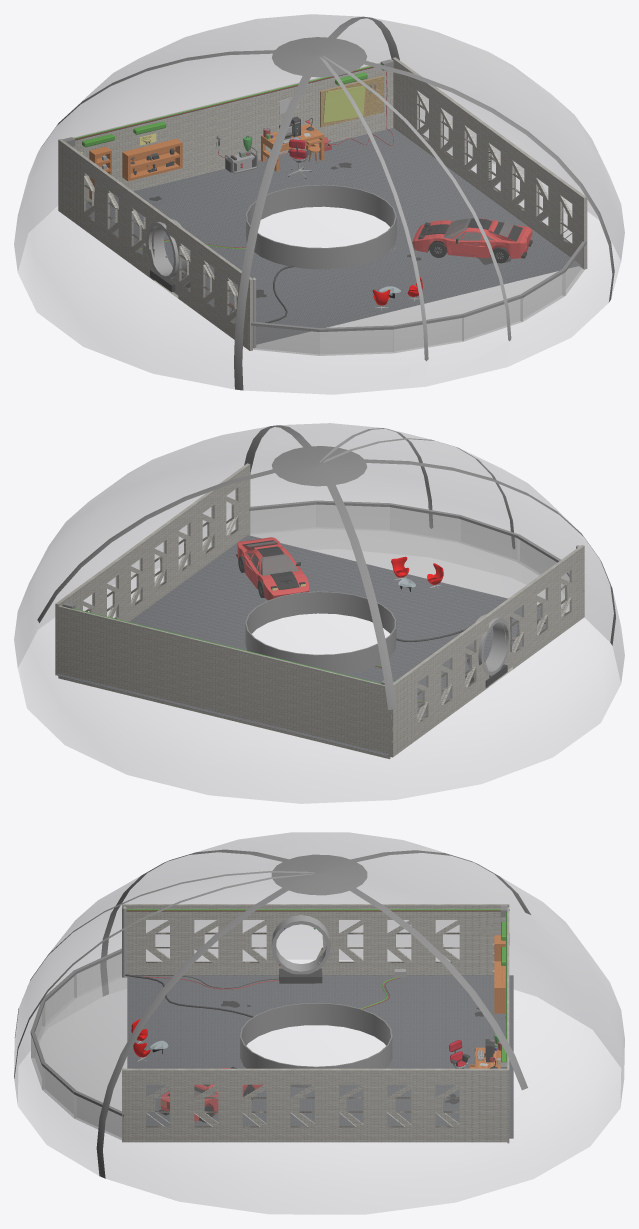
File: Garageplaytest 1.fbx
3 views of the same model, one above another, from view 1: azimuth 30°, elevation 25°; view 2: azimuth 150°, elevation 25°; view 3: azimuth 270°, elevation 25° (orthographic).
Visible parts, largest first — view 1: pSphere4, pCube43, polySurface383, polySurface3, pTorus1, Tableobjects, pPipe2, ferrari:polySurface29, polySurface78, pPipe3, pCube9, pCube5 (+2 smaller); view 2: pSphere4, Tableobjects, pCube43, pTorus1, polySurface3, polySurface383, pPipe2, ferrari:polySurface29, pPipe3; view 3: pSphere4, polySurface383, pCube43, polySurface3, pTorus1, pPipe2, pPipe3, ferrari:polySurface29, polySurface5, polySurface6, polySurface78, Tableobjects (+1 smaller).
Boxes of the visible parts, box(x1,y1,x2,y2) form: pSphere4: box(14, 14, 624, 394); pCube43: box(86, 127, 580, 344); polySurface383: box(392, 57, 587, 269); polySurface3: box(58, 139, 252, 350); pTorus1: box(248, 241, 586, 355); Tableobjects: box(73, 60, 393, 202); pPipe2: box(246, 184, 396, 269); ferrari:polySurface29: box(412, 218, 532, 263); polySurface78: box(122, 138, 182, 181); pPipe3: box(146, 218, 190, 279); pCube9: box(323, 85, 365, 122); pCube5: box(320, 76, 383, 127); pSphere4: box(14, 423, 624, 803); Tableobjects: box(58, 605, 390, 759); pCube43: box(56, 535, 565, 755); pTorus1: box(249, 500, 584, 612); polySurface3: box(389, 545, 584, 757); polySurface383: box(55, 463, 250, 675); pPipe2: box(245, 591, 396, 674); ferrari:polySurface29: box(236, 537, 308, 600); pPipe3: box(466, 614, 510, 675); pSphere4: box(14, 832, 624, 1213); polySurface383: box(122, 1068, 509, 1142); pCube43: box(127, 975, 513, 1138); polySurface3: box(122, 904, 509, 977); pTorus1: box(30, 948, 126, 1140); pPipe2: box(240, 1003, 392, 1087); pPipe3: box(271, 915, 330, 974); ferrari:polySurface29: box(159, 1066, 263, 1122); polySurface5: box(126, 909, 509, 910); polySurface6: box(127, 910, 500, 911); polySurface78: box(494, 961, 505, 1013); Tableobjects: box(479, 907, 509, 1143).
Size of the model in its own units: 37.8 by 14.63 by 37.8.
